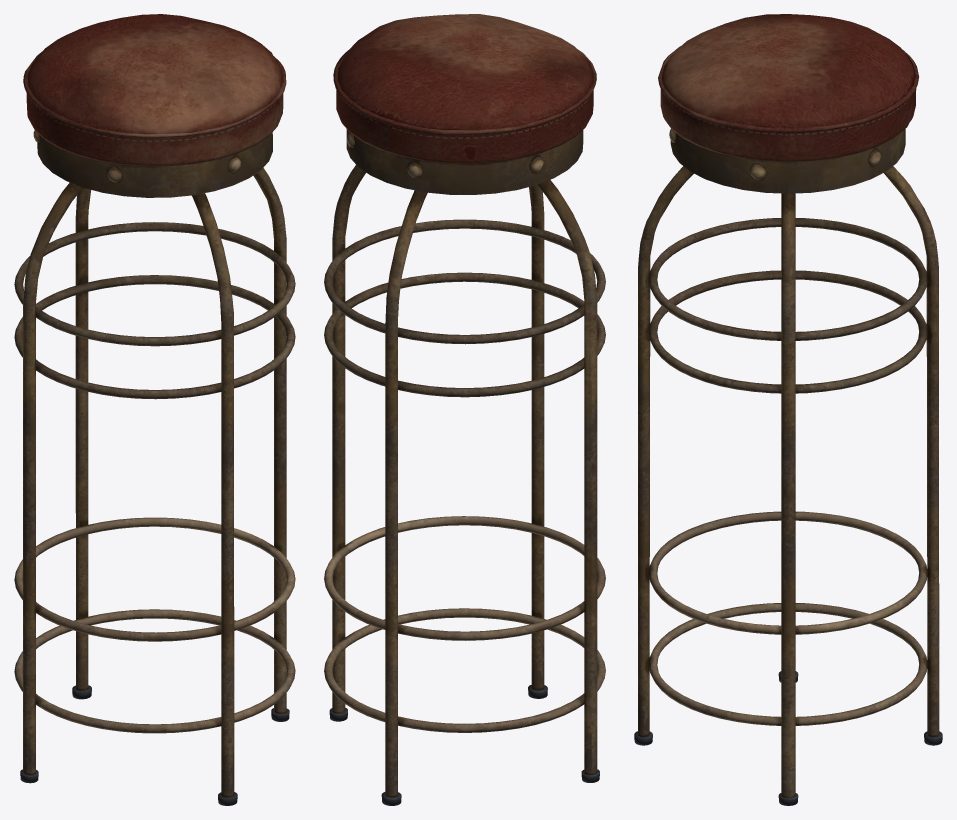
File: metal_stool_01.glb
3 views of the same model, side by side, from view 1: azimuth 30°, elevation 25°; view 2: azimuth 150°, elevation 25°; view 3: azimuth 270°, elevation 25° (orthographic).
Parts seen in each view (by area): view 1: metal_stool_01; view 2: metal_stool_01; view 3: metal_stool_01.
Part boxes in pixels (x1,y1,x2,y2): metal_stool_01: (14, 14, 295, 805); metal_stool_01: (324, 14, 605, 805); metal_stool_01: (634, 14, 942, 805).
Size of the model in its own units: 0.352 by 0.8824 by 0.3546.
1 material, 1 textured.
